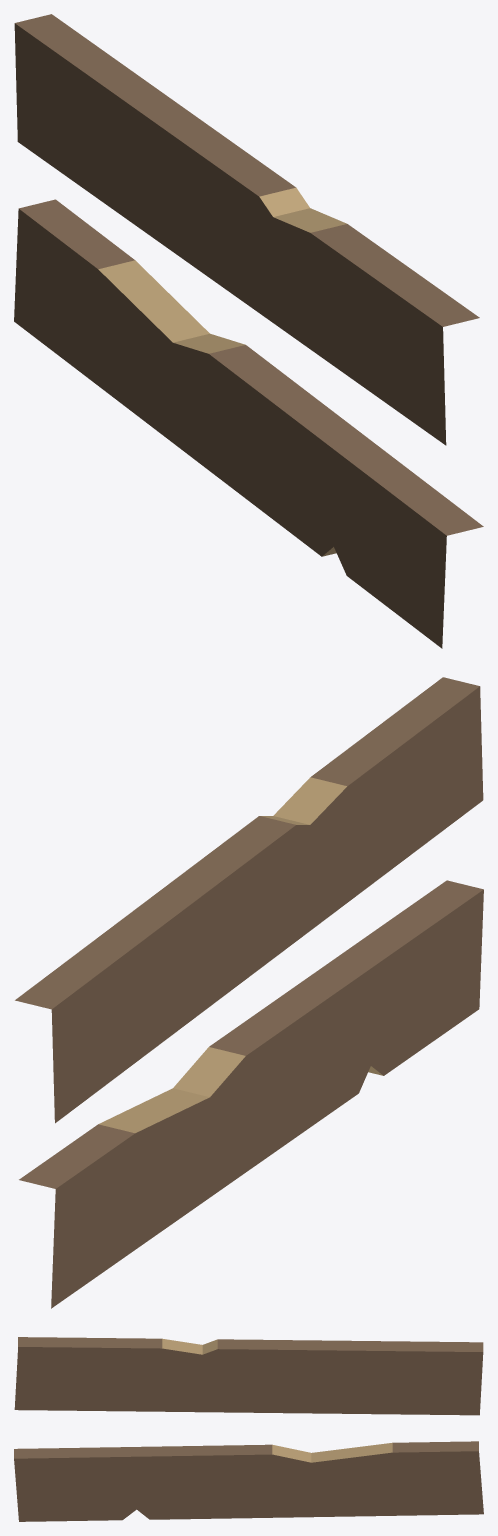
Rendered from Cave_Prop_Support_Wall_Boards_3.glb.
3 renders of one model, top to bottom at view 1: azimuth 30°, elevation 25°; view 2: azimuth 150°, elevation 25°; view 3: azimuth 270°, elevation 25°, orthographic. The views are drawn at different scales.
Visible parts, largest first — view 1: Cave_Prop_Support_Wall_Boards_3; view 2: Cave_Prop_Support_Wall_Boards_3; view 3: Cave_Prop_Support_Wall_Boards_3.
Part boxes in pixels (x1,y1,x2,y2): Cave_Prop_Support_Wall_Boards_3: [14, 14, 483, 648]; Cave_Prop_Support_Wall_Boards_3: [15, 677, 483, 1308]; Cave_Prop_Support_Wall_Boards_3: [14, 1337, 483, 1521].
Bounding box in the file's own units: 0.1 × 0.8302 × 2.02.
